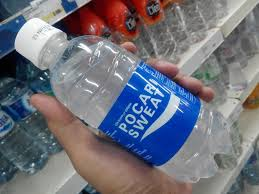botol: (9, 13, 231, 183), (9, 17, 231, 183), (12, 17, 231, 183)
